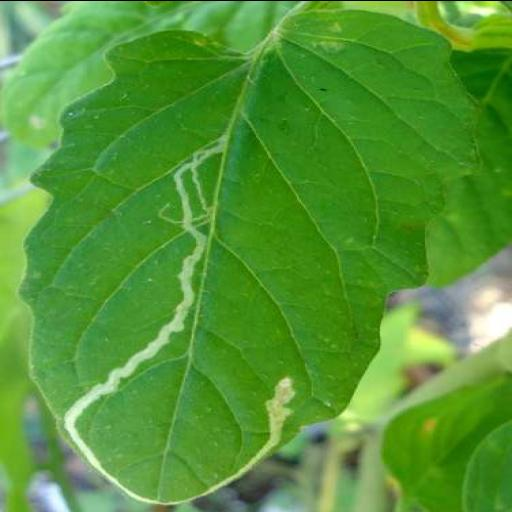disease_tomato: (15, 8, 485, 504)
